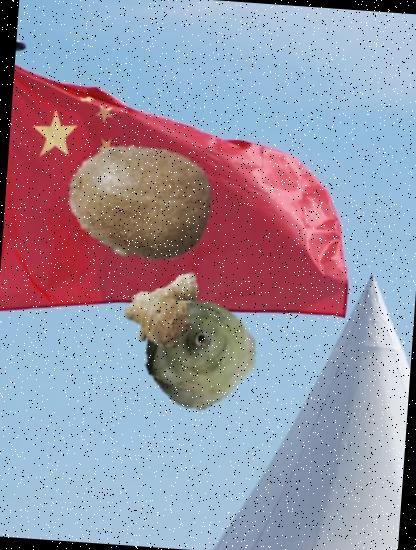Ginger: (118, 259, 211, 352)
Kiwi: (60, 121, 219, 280)
Kohlrabi: (133, 282, 263, 412)
